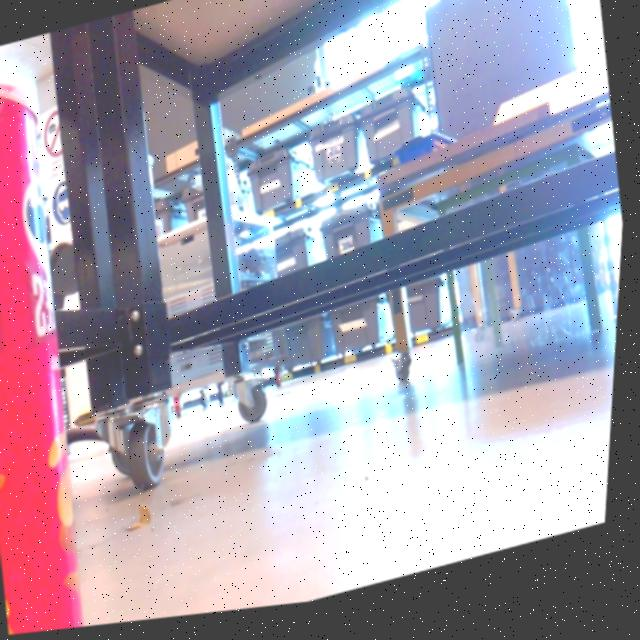redpringles: (0, 40, 155, 640)
